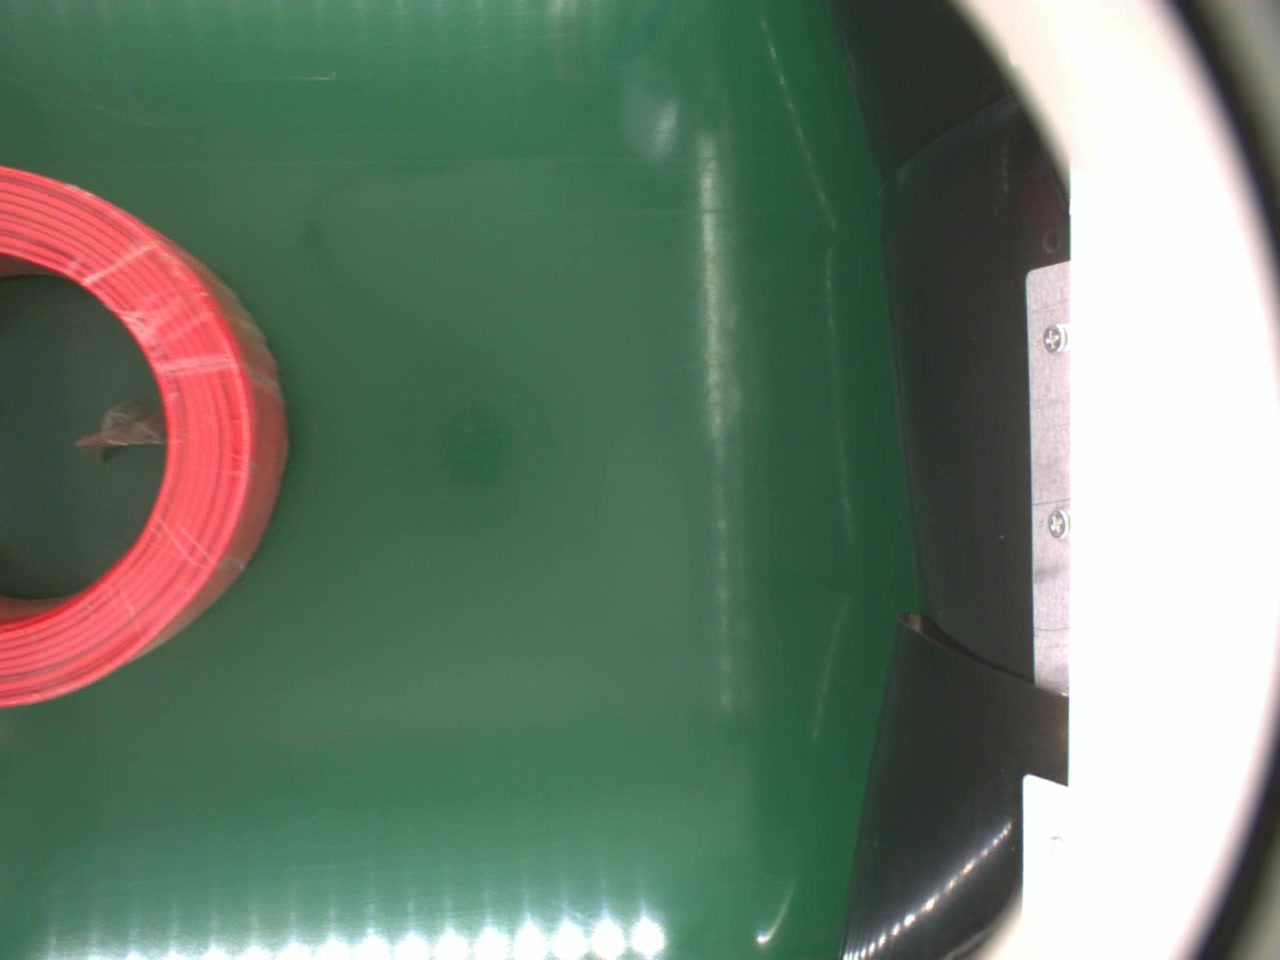red: (0, 162, 287, 708)
